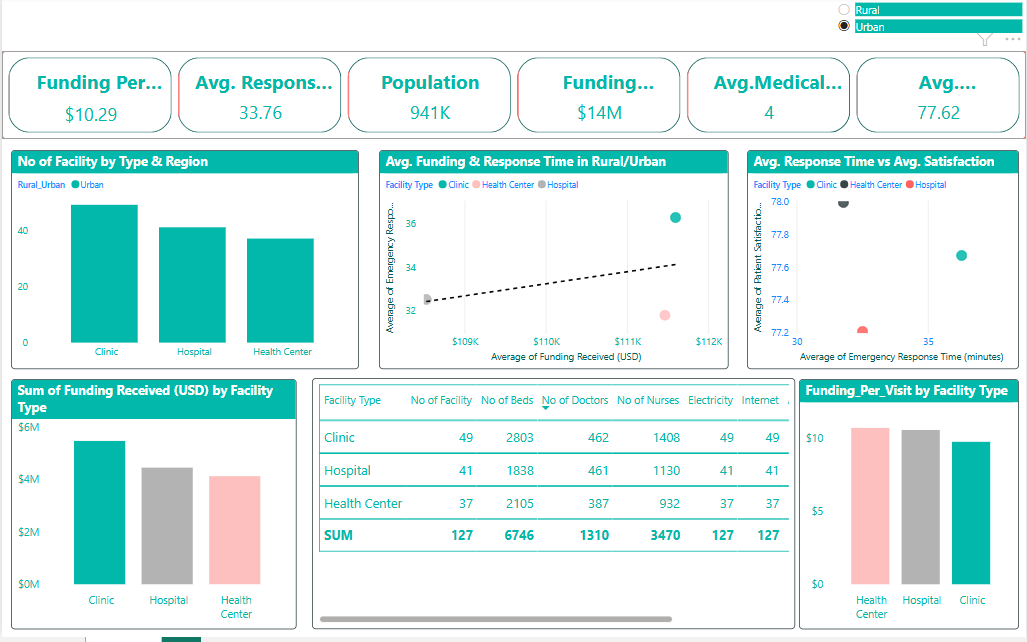

Layout of this report page (visuals, bound fields, positions):
{"tool":"powerbi","page":{"name":"Page 1","canvas":[1280,800],"ordinal":0},"visuals":[{"type":"columnChart","fields":{"Y":["Sum(HealthCare.Funding Received (USD))"],"Category":["HealthCare.Facility Type"]},"box":[10.8,477,357.1,312.6],"z":0},{"type":"cardVisual","title":"u","fields":{"Data":["HealthCare.Funding_Per_Visit","Avg(HealthCare.Emergency Response Time (minutes))","Sum(HealthCare.Population)","Sum(HealthCare.Funding Received (USD))","HealthCare.Medical_Staff_Per_Patient","Avg(HealthCare.Patient Satisfaction Rate (%))"]},"box":[0,67.4,1280,110.5],"z":1000},{"type":"scatterChart","title":"Avg. Funding & Response Time in Rural/Urban","fields":{"X":["Avg(HealthCare.Funding Received (USD))"],"Y":["Avg(HealthCare.Emergency Response Time (minutes))"],"Series":["HealthCare.Facility Type"]},"box":[471.6,191.3,436.5,273.5],"z":2000},{"type":"columnChart","fields":{"Category":["HealthCare.Facility Type"],"Y":["HealthCare.Funding_Per_Visit"]},"box":[995.7,477,274.9,312.6],"z":3000},{"type":"clusteredColumnChart","title":"No of Facility by Type & Region ","fields":{"Category":["HealthCare.Facility Type"],"Y":["CountNonNull(HealthCare.Facility Name)"],"Series":["HealthCare.Rural_Urban"]},"box":[10.8,191.3,435.2,273.5],"z":4000},{"type":"textbox","box":[0,0,1279.7,67.1],"z":5000},{"type":"slicer","fields":{"Values":["HealthCare.Rural_Urban"]},"box":[1032.1,0,247.9,67.4],"z":6000},{"type":"tableEx","fields":{"Values":["HealthCare.Facility Type","HealthCare.Facility Name","Sum(HealthCare.Number of Beds)","Sum(HealthCare.Number of Doctors)","Sum(HealthCare.Number of Nurses)","Sum(HealthCare.Electricity_Access_Numeric)","Sum(HealthCare.Internet Numeric)","Sum(HealthCare.Average Distance to Facility (km))","Sum(HealthCare.Annual Patient Visits)"]},"box":[380,477,603.6,312.6],"z":7000},{"type":"scatterChart","title":"Avg. Response Time vs Avg. Satisfaction","fields":{"X":["Avg(HealthCare.Emergency Response Time (minutes))"],"Y":["Avg(HealthCare.Patient Satisfaction Rate (%))"],"Series":["HealthCare.Facility Type"]},"box":[931,191.3,339.5,273.5],"z":8000}]}

Visuals, with their boxes in screenshot pixels (x1, y1, x2, y2):
columnChart - Sum(HealthCare.Funding Received (USD)) x HealthCare.Facility Type: <box>17,377,299,625</box>
"u" cardVisual: <box>8,53,1021,141</box>
"Avg. Funding & Response Time in Rural/Urban" scatterChart: <box>381,151,727,368</box>
columnChart - HealthCare.Facility Type x HealthCare.Funding_Per_Visit: <box>796,377,1013,625</box>
"No of Facility by Type & Region " clusteredColumnChart: <box>17,151,361,368</box>
textbox: <box>8,0,1021,53</box>
slicer - HealthCare.Rural_Urban: <box>825,0,1021,53</box>
tableEx - HealthCare.Facility Type x HealthCare.Facility Name: <box>309,377,786,625</box>
"Avg. Response Time vs Avg. Satisfaction" scatterChart: <box>745,151,1013,368</box>
